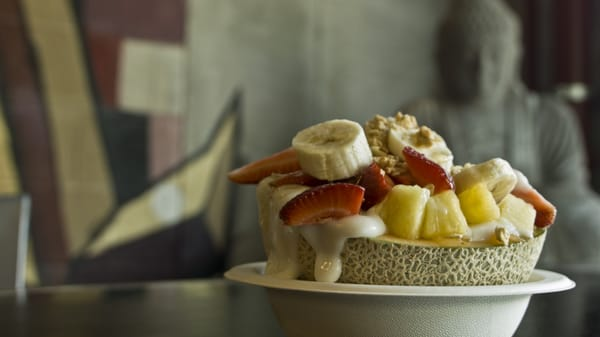pasta: (1, 3, 242, 287)
